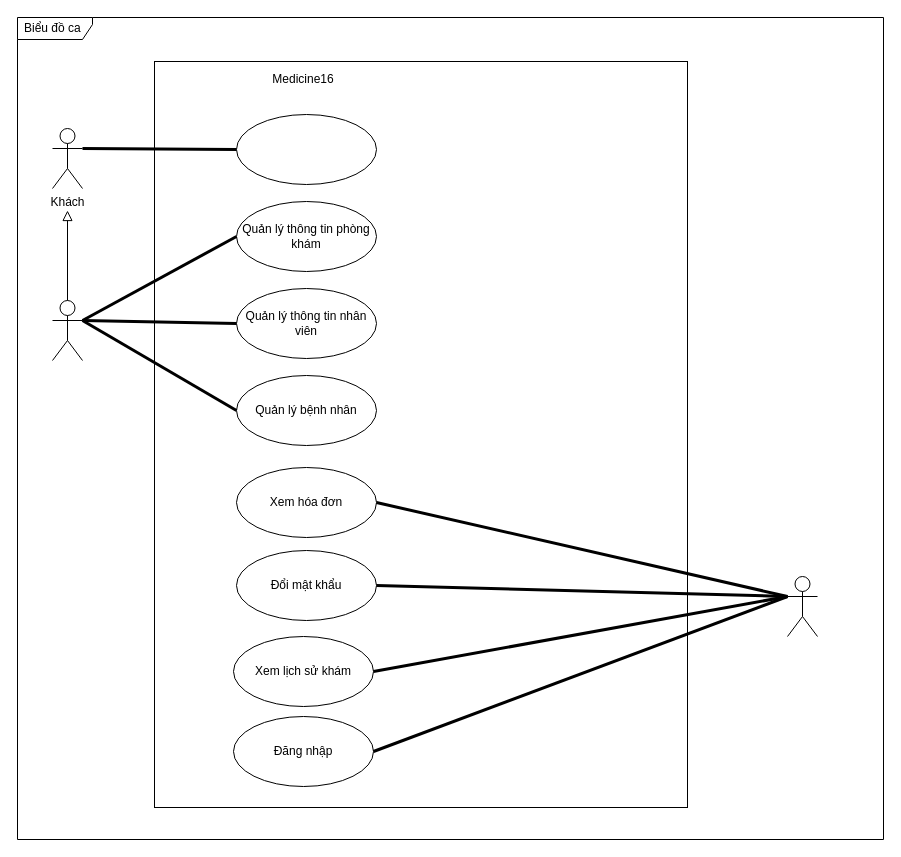
Image size: 901x857. Some labels were removed from this diagram. Here are the shapes that lost their labels. From the top down, the centre of each, then its label:
At (x=306, y=149): "Xem thông tin phòng khám".
At (x=67, y=330): "Quản trị viên".
At (x=802, y=606): "Bệnh nhân".
